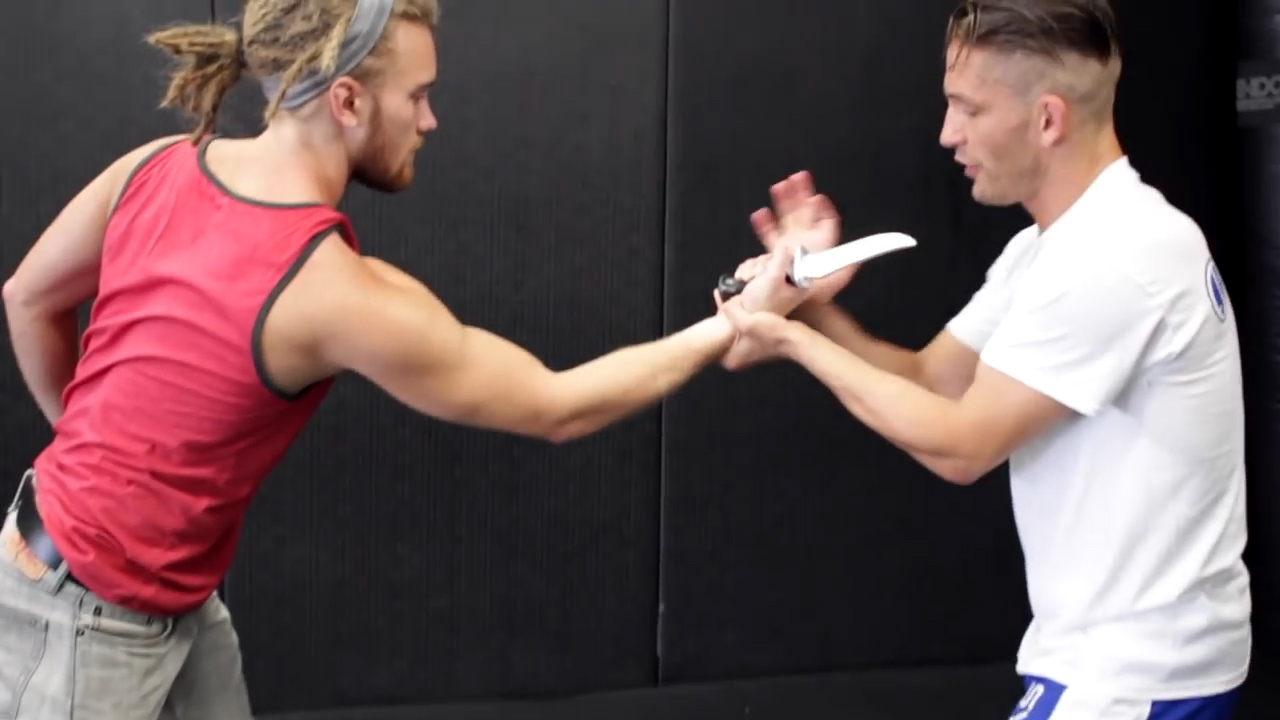knife: (705, 213, 925, 306)
